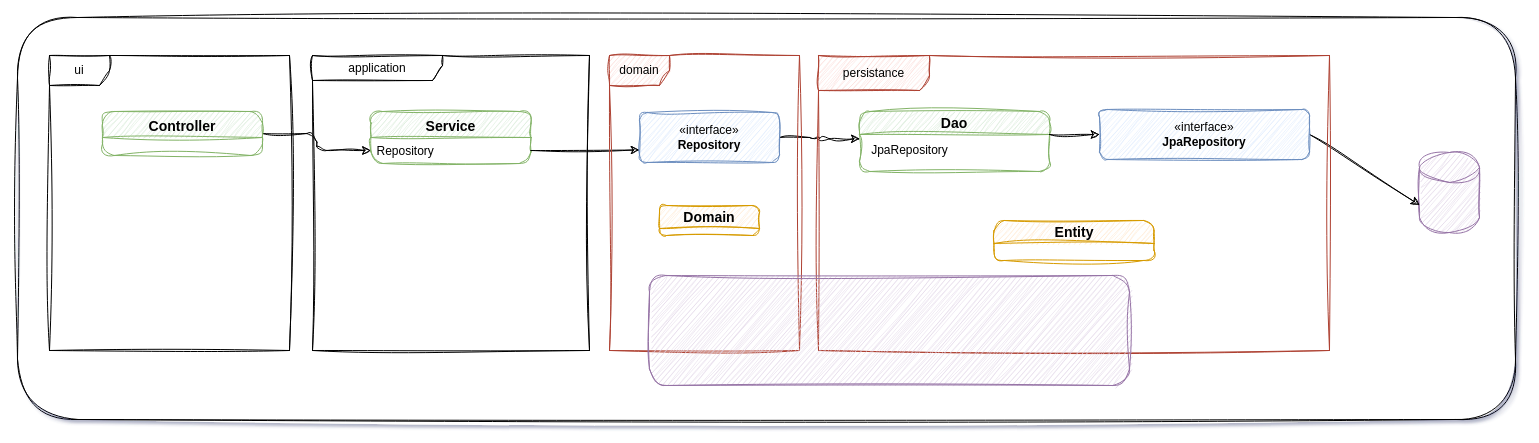
Some shapes in this 1539 by 443 pixel diagram are drawn without their labels. Each missing label, with the centre of its shape:
DB: point (1449, 192)
도메인과 엔티티의 분리 도메인 모델과 데이터베이스 엔티티를 분리해 도메인 로직과 엔티티 로직이 겹치지 않도록 관리: point (889, 330)
